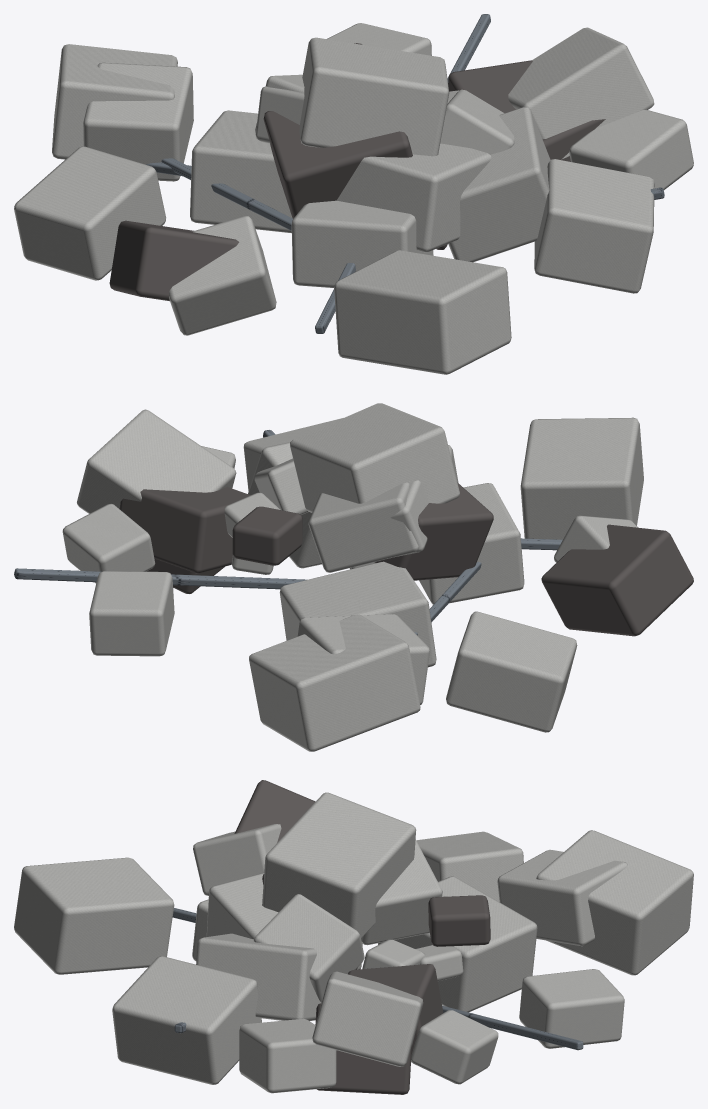
The model's file is charred-rubble-pile.glb.
3 renders of one model, top to bottom at view 1: azimuth 30°, elevation 25°; view 2: azimuth 150°, elevation 25°; view 3: azimuth 270°, elevation 25°, orthographic. The views are drawn at different scales.
Visible parts, largest first — view 1: rubble-pile; view 2: rubble-pile; view 3: rubble-pile.
Part boxes in pixels (x1,y1,x2,y2): rubble-pile: (14,14,693,374); rubble-pile: (14,403,693,751); rubble-pile: (14,780,693,1094).
Size of the model in its own units: 2.03 by 0.7111 by 2.31.
3 materials, 2 textured.
